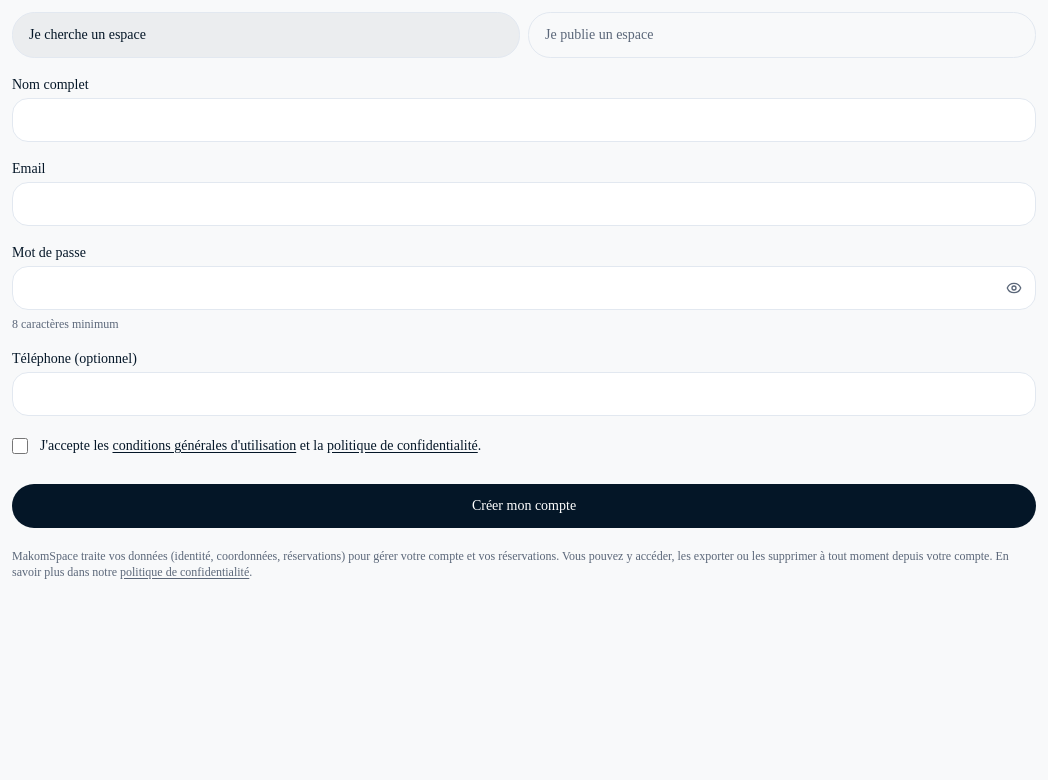
RegisterForm (B-11, UX-12, SEC-15) › refuses to submit until the CGU/privacy box is ticked
Type "Sam Client" into the field labelled "Nom complet" at (524, 120), box [12,98,1036,142]
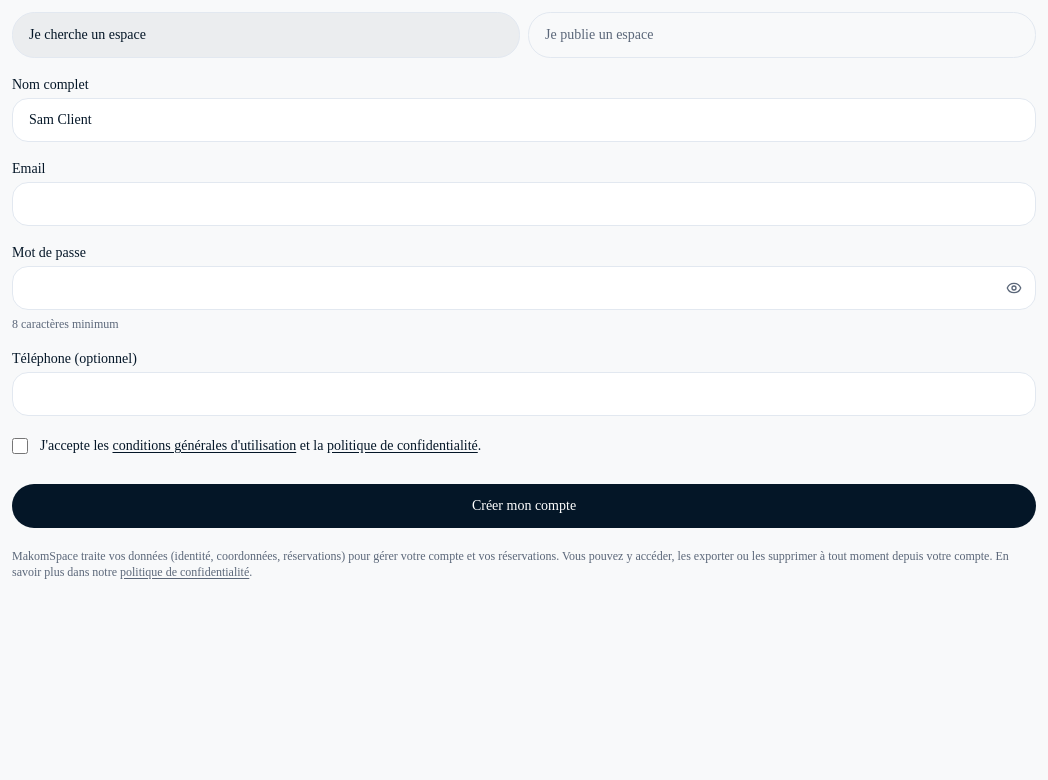
Type "sam@example.com" into the field labelled "Email" at (524, 204), box [12,182,1036,226]
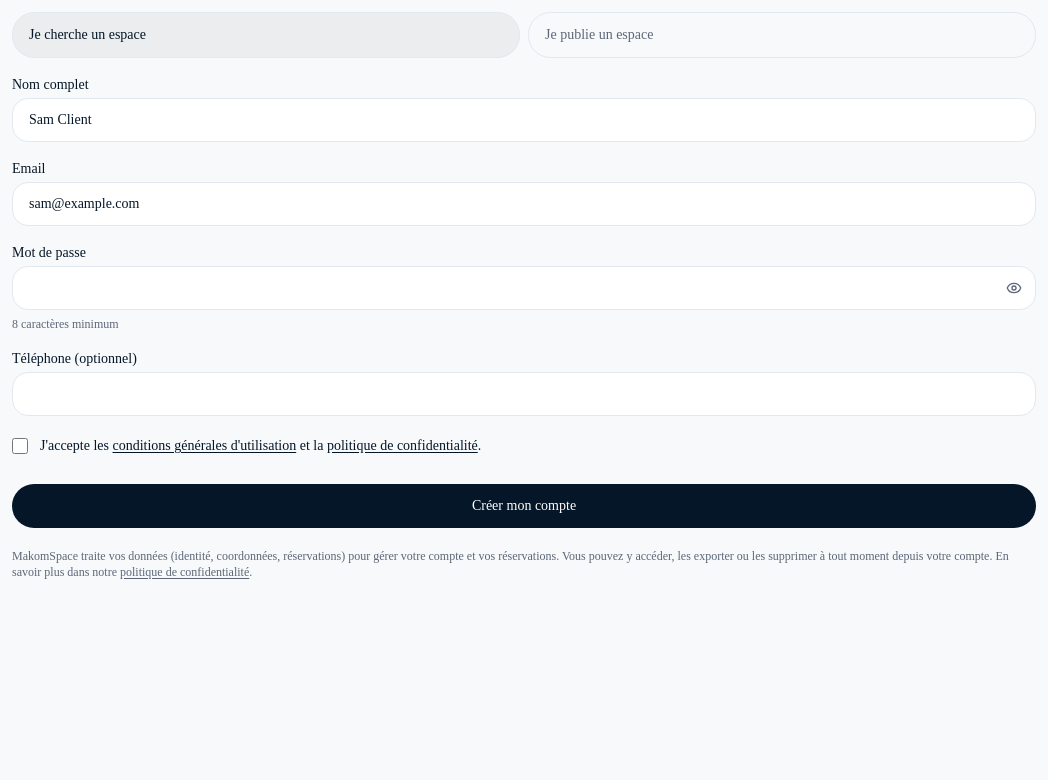
Type "supersecret" into the password field labelled "Mot de passe" at (524, 288), box [12,266,1036,310]
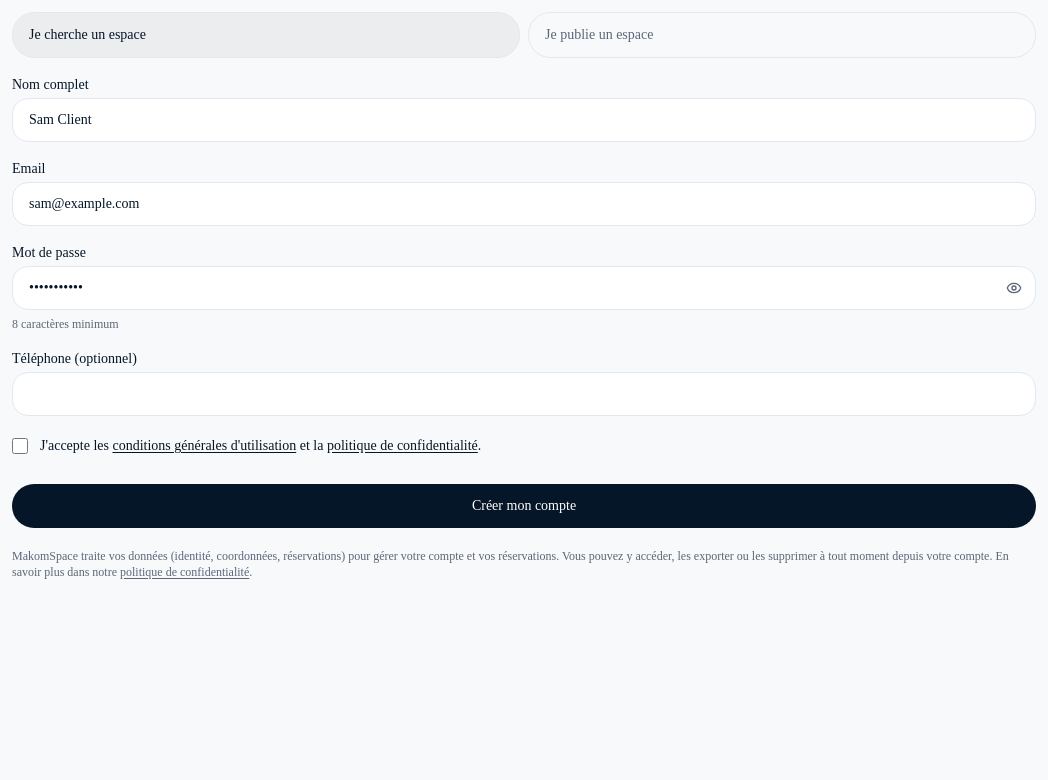
Click the button "Créer mon compte" at (524, 506), box [12,484,1036,528]
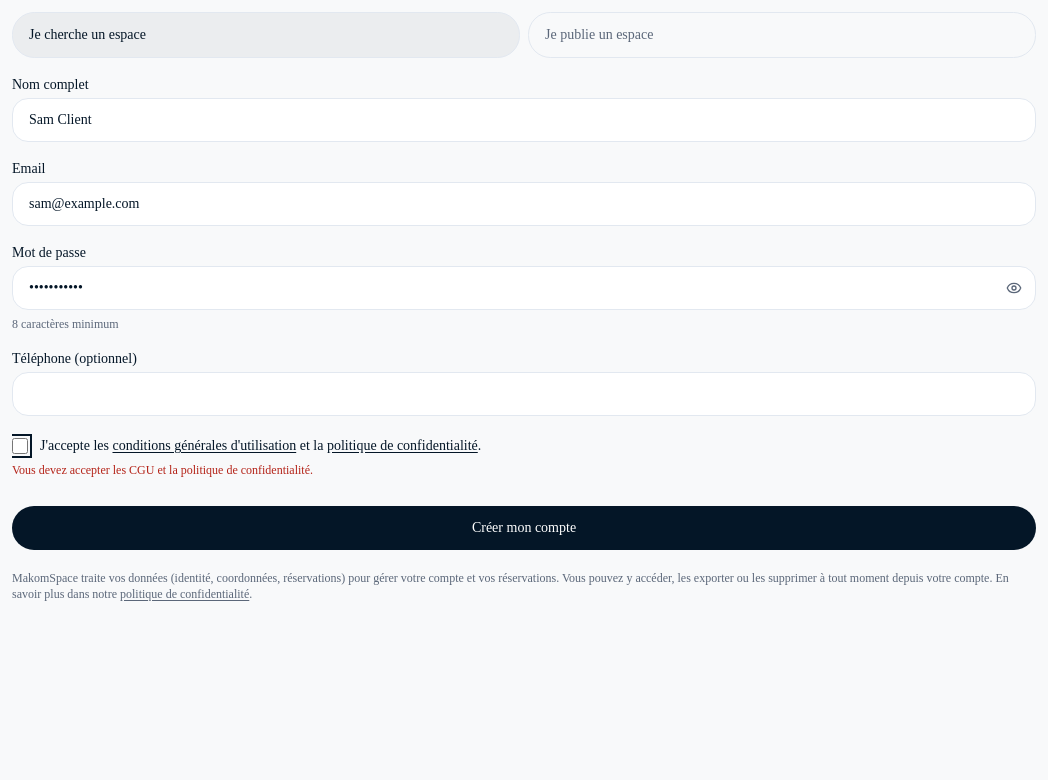
Expected: the text "Vous devez accepter les CGU" is shown, [12,463,313,477]
